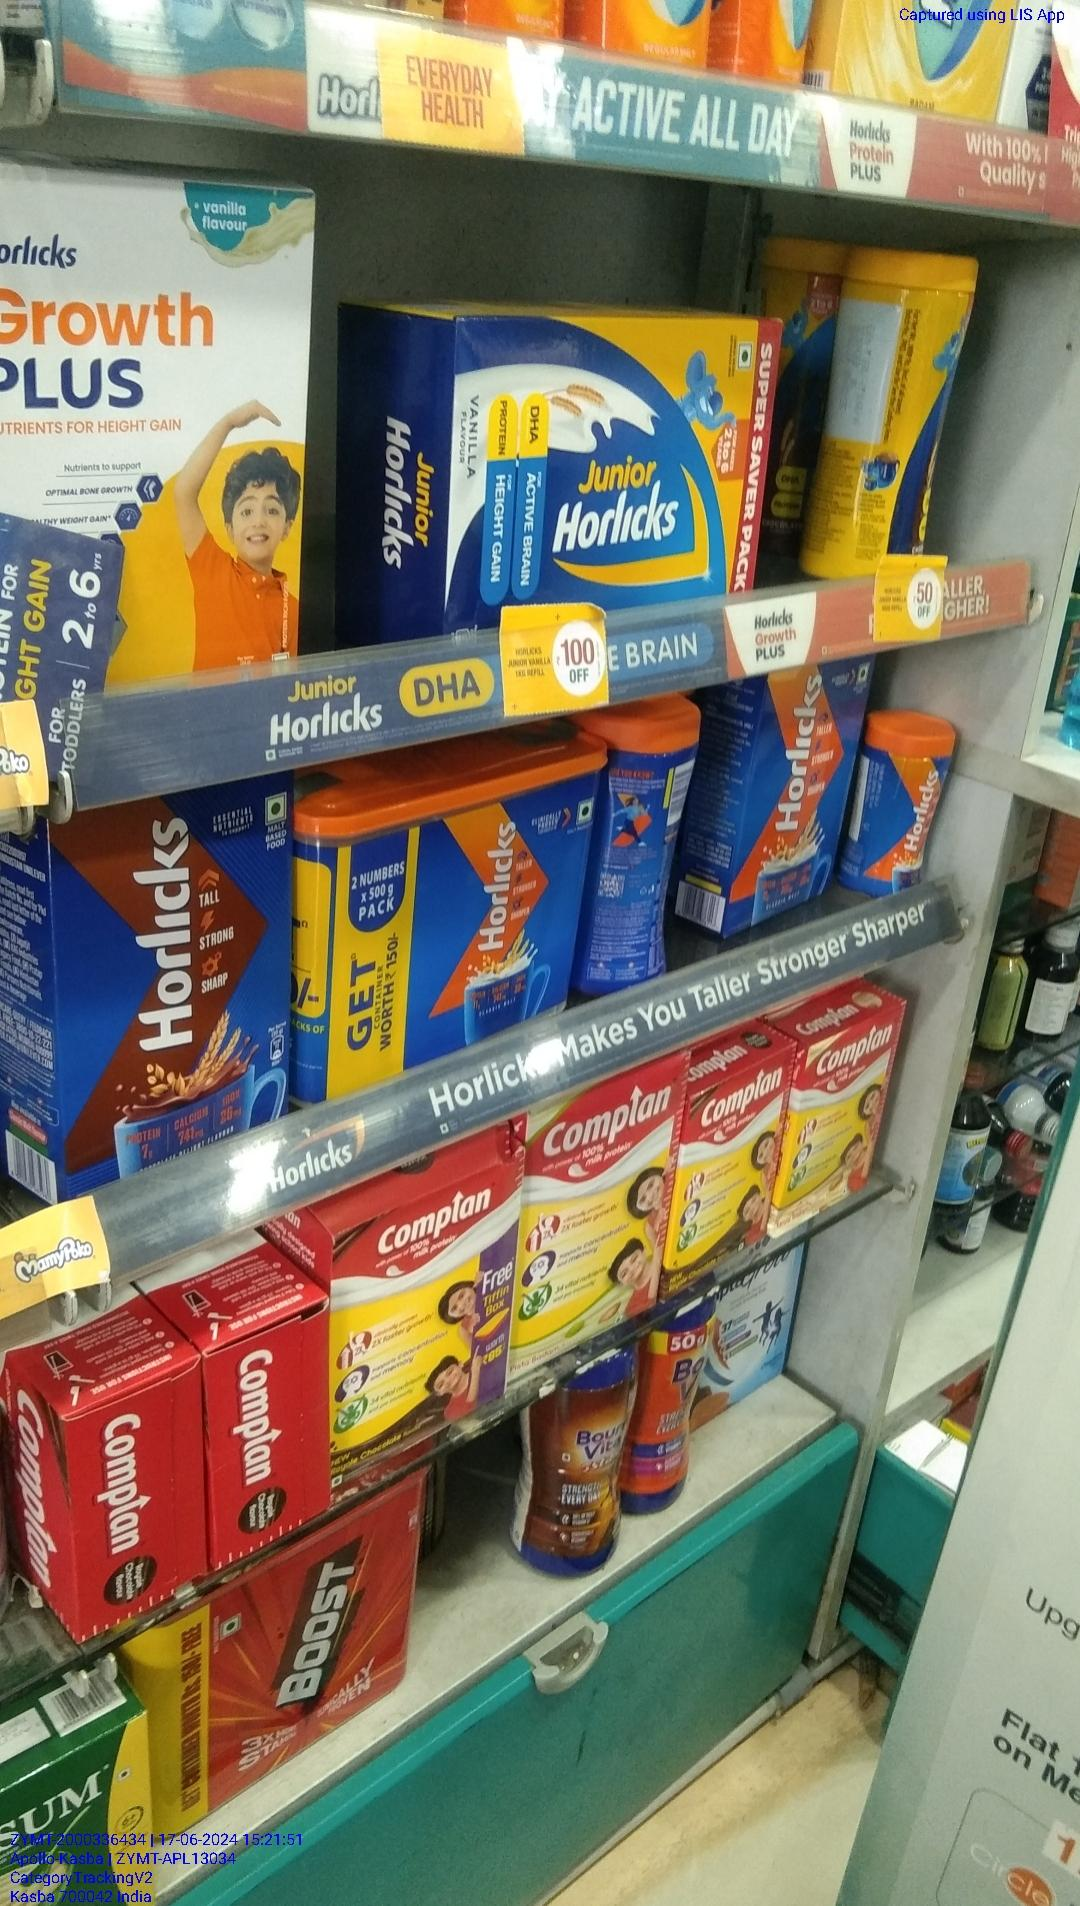BOURN_VITA_FIVE_STAR_MAGIC_500_G_JAR: (526, 1398, 631, 1576)
COMPLAN_CHOCOLATE_500_GMS_PACK: (331, 1214, 504, 1402), (674, 1084, 782, 1289)
COMPLAN_PISTA_BADAM_500_GMS_PACK: (528, 1111, 664, 1318)
HORLICK_CHOCOLATE_500_G_PACK: (55, 829, 292, 1121)
HORLICK_CLASSIC_MALT_200_G_JAR: (859, 719, 945, 889)
HORLICK_CLASSIC_MALT_500_G_PACK: (728, 675, 842, 905)
